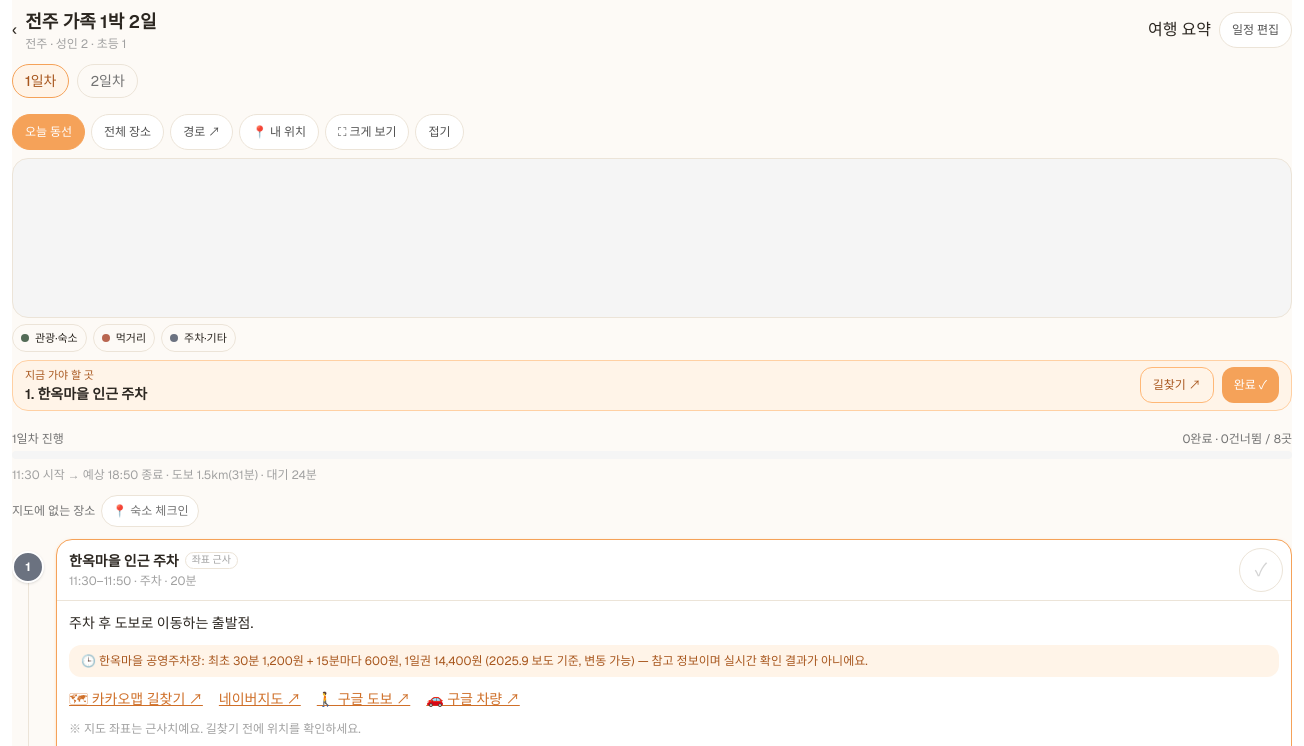
지도 위치 지정 › 좌표가 없어 지도에 안 나오는 장소를 알려주고, 누르면 위치 지정 모드가 된다
This screenshot has width=1304, height=746.
Click the button with aria-label "숙소 체크인 위치 지정" at {"x": 150, "y": 510}, box [101,494,200,526]
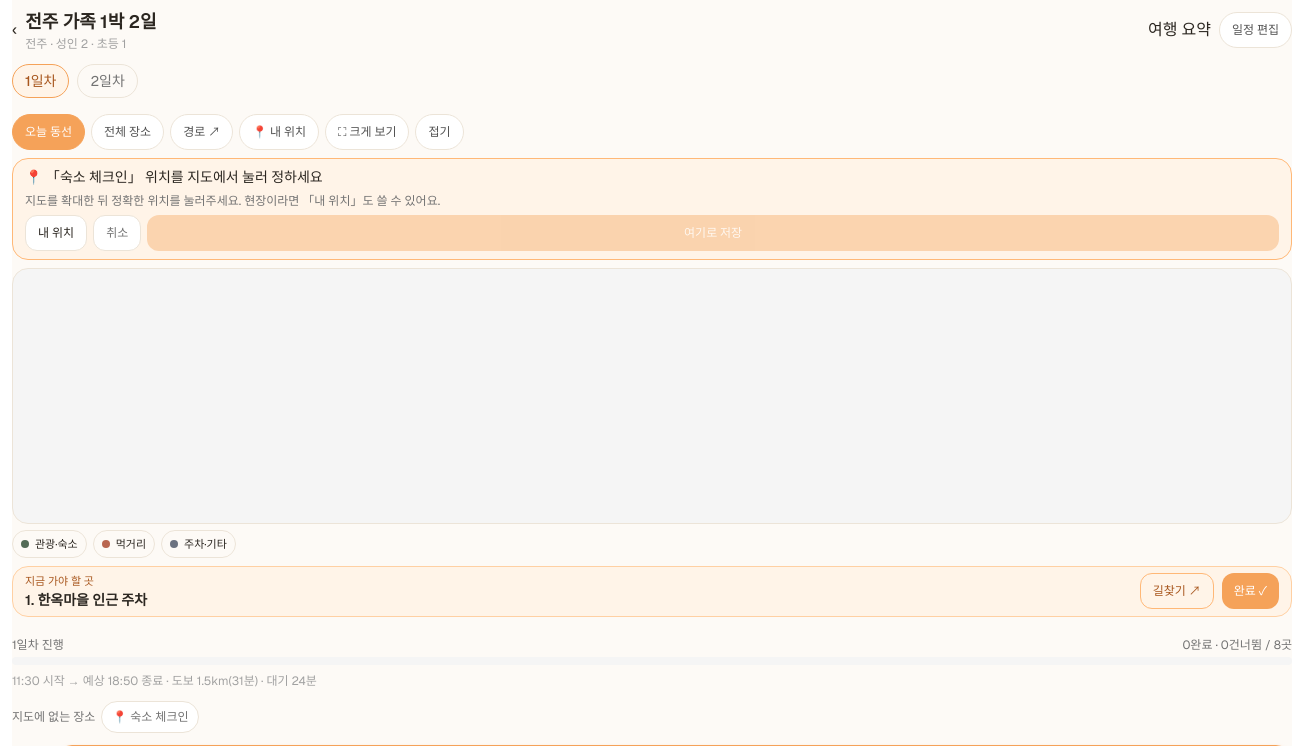
Now the element named "위치 지정" shows "숙소 체크인", box [60,168,128,186]
Now the button "여기로 저장" is disabled, box [147,215,1279,251]
